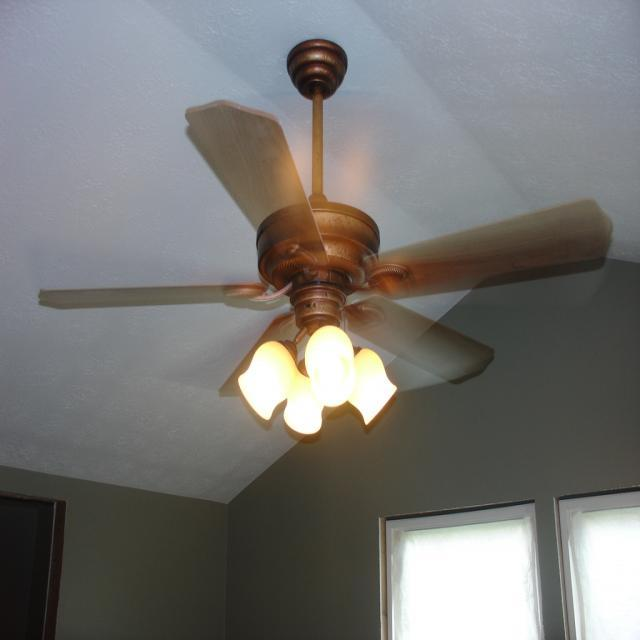bulb_on: (315, 344, 346, 398)
fan_off: (40, 42, 619, 378)
